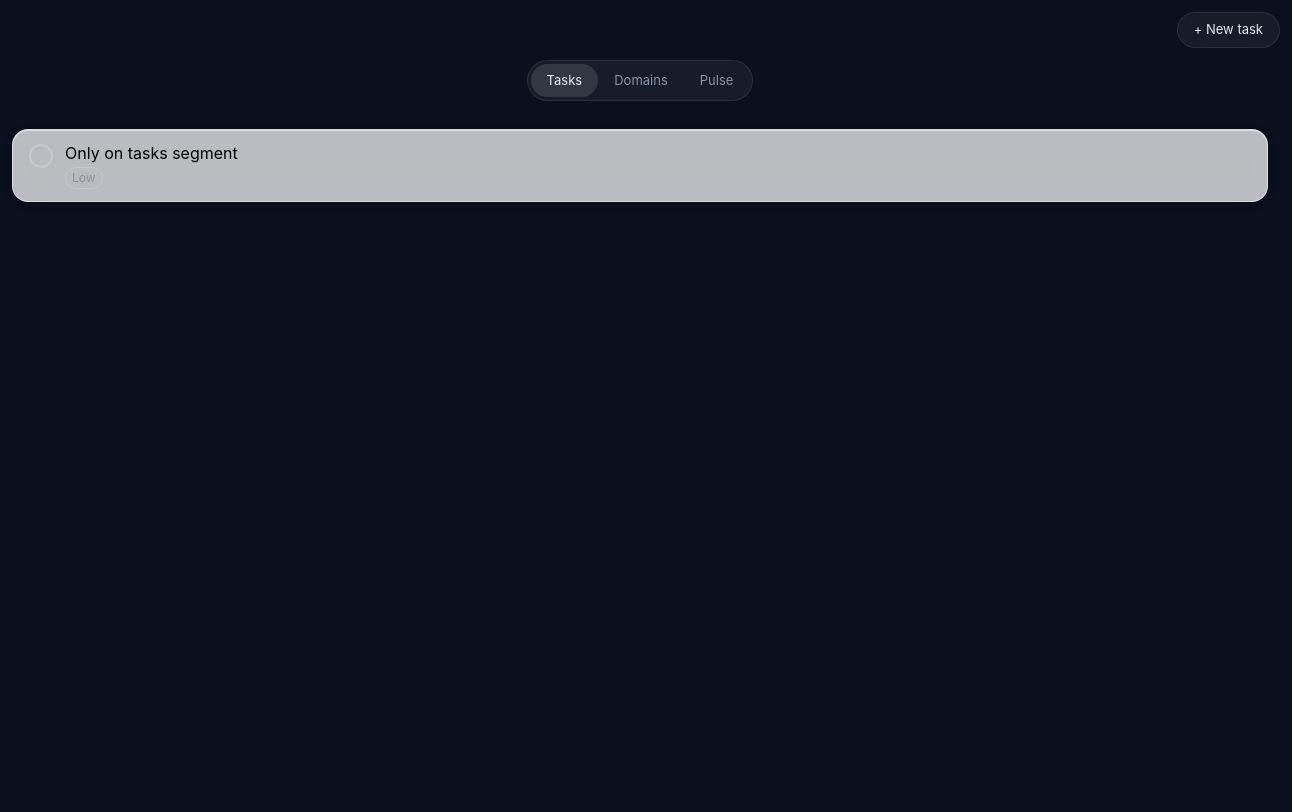
Scenario: TasksView — Segmented sub-nav (S58) › switching segments away from tasks hides the task list
The width and height of the screenshot is (1292, 812).
Click the tab "Pulse" at (717, 80), box x1=684 y1=64 x2=749 y2=97
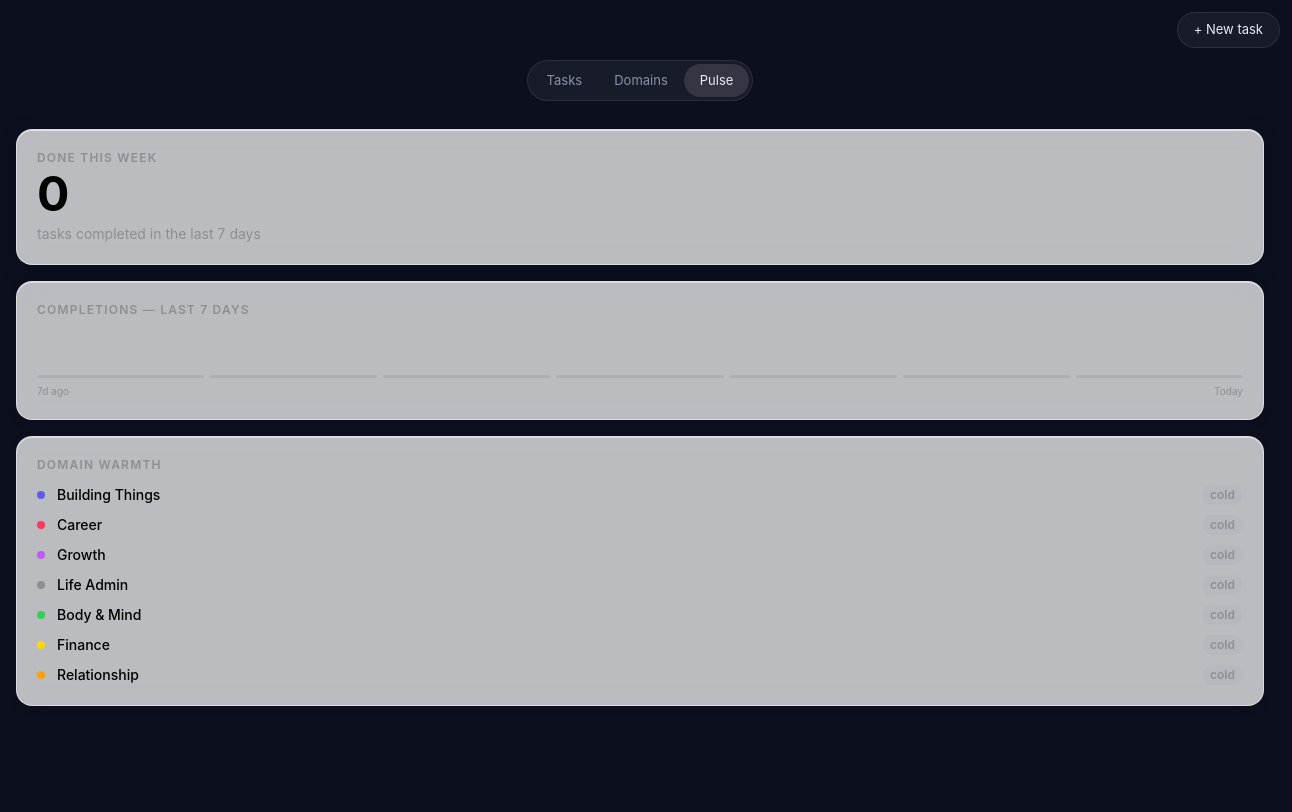
Now the button "Only on tasks segment" is gone
